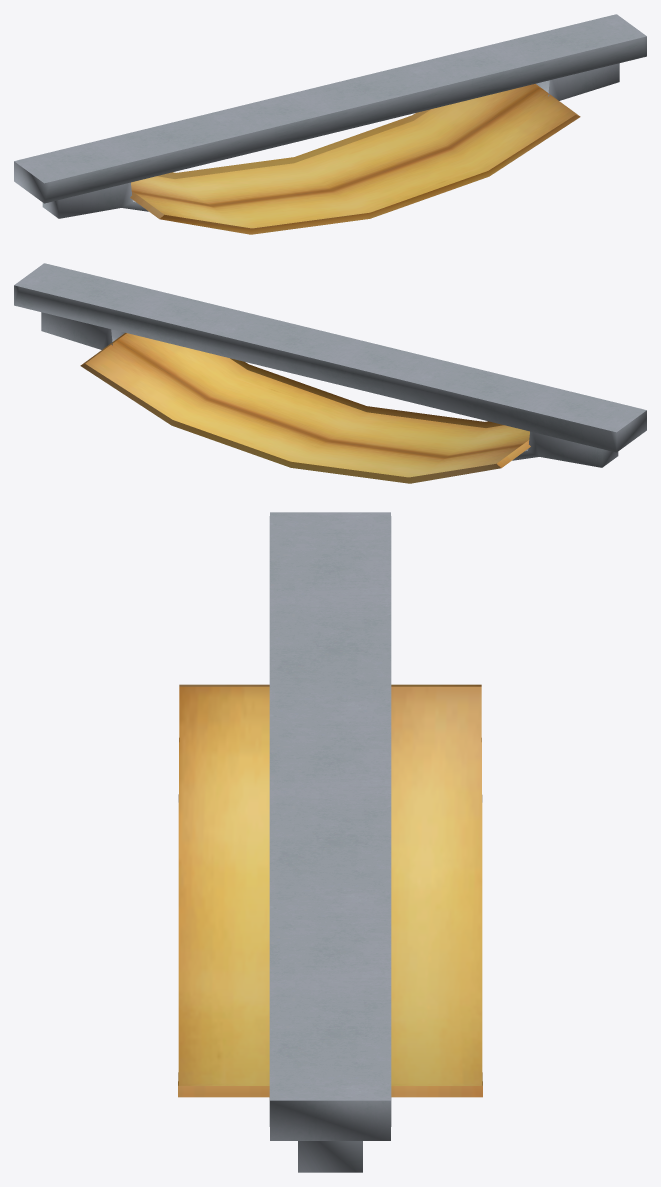
The model's file is p6_light_modern_sconce_on_LOD2.obj.
3 renders of one model, top to bottom at view 1: azimuth 30°, elevation 25°; view 2: azimuth 150°, elevation 25°; view 3: azimuth 270°, elevation 25°, orthographic. The views are drawn at different scales.
Parts seen in each view (by area): view 1: metal_exterior_karma, light_rice_paper_orange; view 2: metal_exterior_karma, light_rice_paper_orange; view 3: metal_exterior_karma, light_rice_paper_orange.
Boxes of the visible parts, bbox=[...] form: metal_exterior_karma: bbox=[14, 14, 646, 218]; light_rice_paper_orange: bbox=[130, 84, 580, 234]; metal_exterior_karma: bbox=[14, 263, 646, 467]; light_rice_paper_orange: bbox=[80, 333, 530, 483]; metal_exterior_karma: bbox=[269, 512, 391, 1172]; light_rice_paper_orange: bbox=[178, 684, 482, 1097].
Size of the model in its own units: 140 by 22.37 by 30.71.
